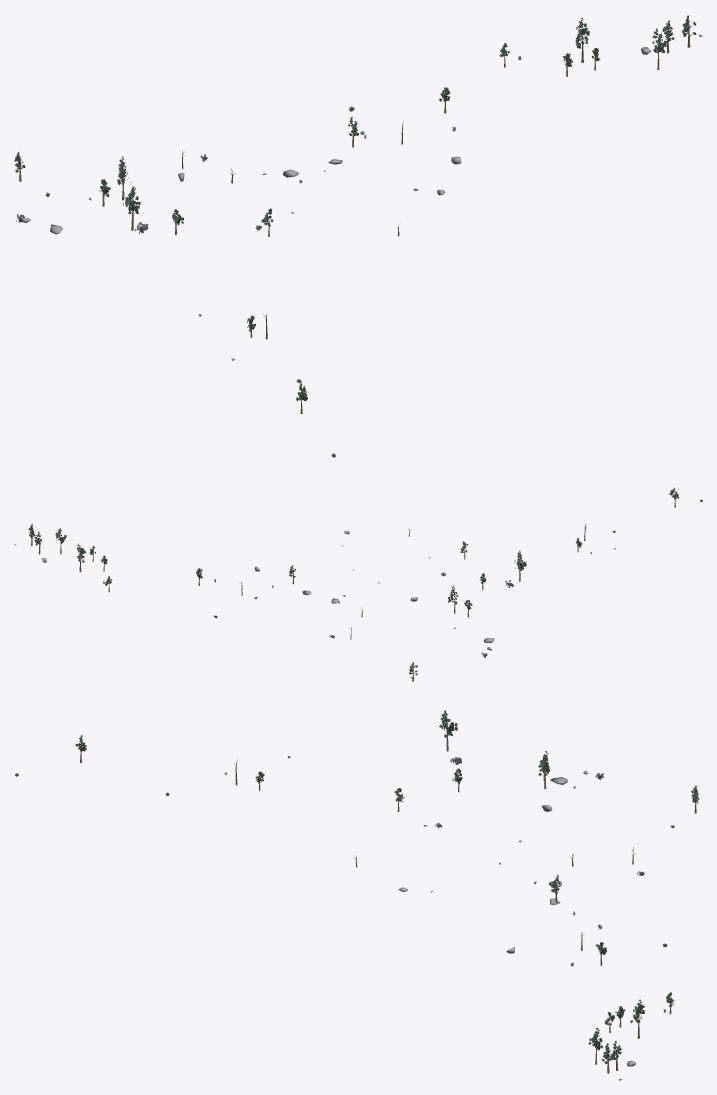
File: frost_land_scatter_c17_11.glb
3 views of the same model, one above another, from view 1: azimuth 30°, elevation 25°; view 2: azimuth 150°, elevation 25°; view 3: azimuth 270°, elevation 25° (orthographic). The views are drawn at different scales.
Visible parts, largest first — view 1: frost_land_scatter_c17_11; view 2: frost_land_scatter_c17_11; view 3: frost_land_scatter_c17_11.
Boxes of the visible parts, x1,y1,x2,y2 form: frost_land_scatter_c17_11: [14, 15, 702, 457]; frost_land_scatter_c17_11: [14, 487, 702, 681]; frost_land_scatter_c17_11: [15, 710, 699, 1080].
Size of the model in its own units: 249 by 37.42 by 232.
